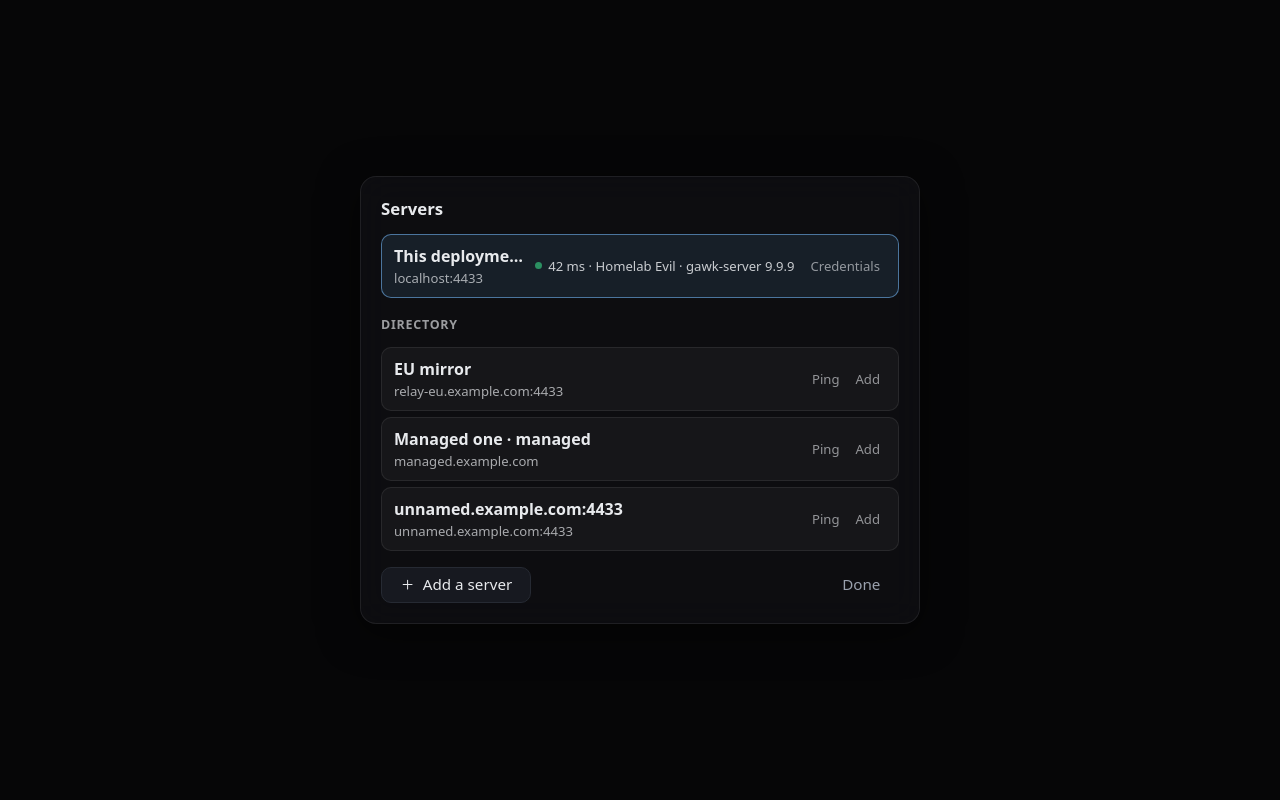
Test: ServerPickerPanel directory (SP7) › adding an offer is explicit and equals a manually-added entry
Expected: the text "EU mirror" is shown, [394,358,471,380]
Click the button with aria-label "Add EU mirror": [868, 379] box [850,366,886,392]
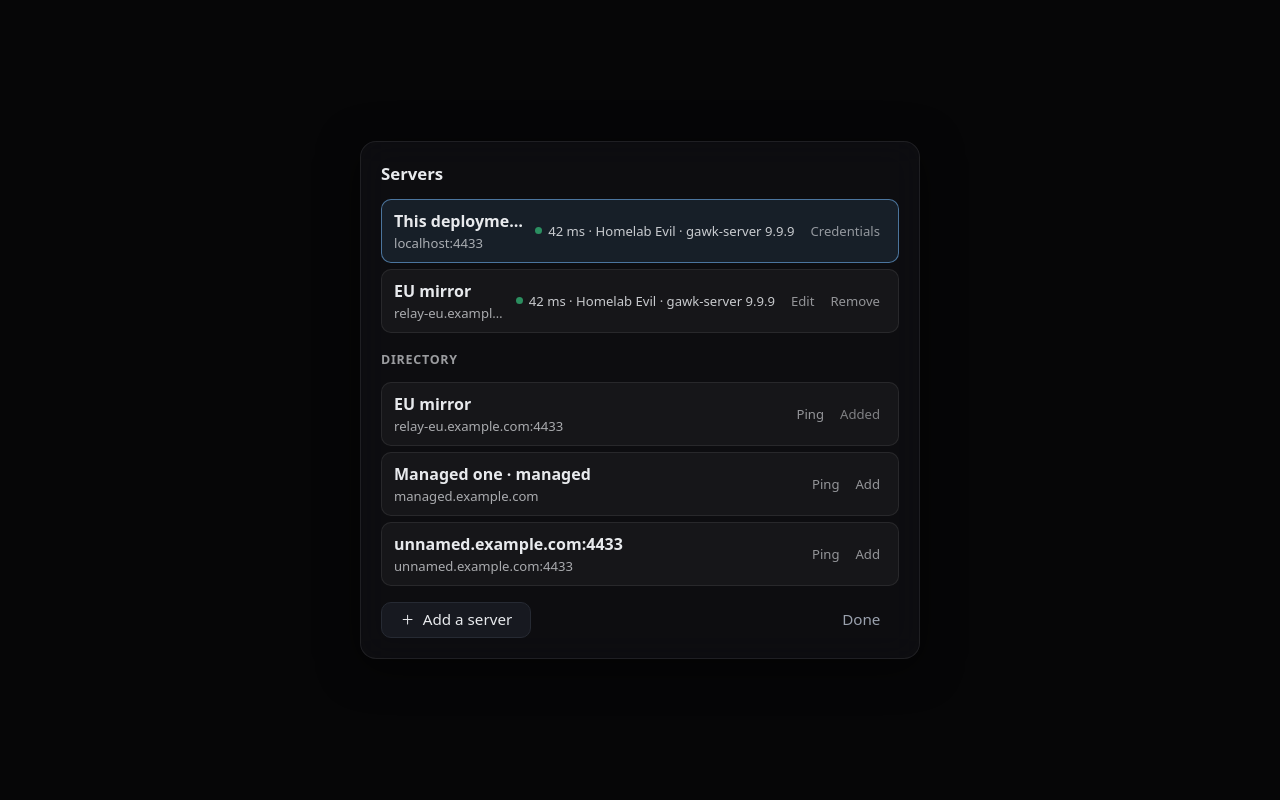
Now the 1st text "EU mirror" is shown, box [394,280,471,302]
